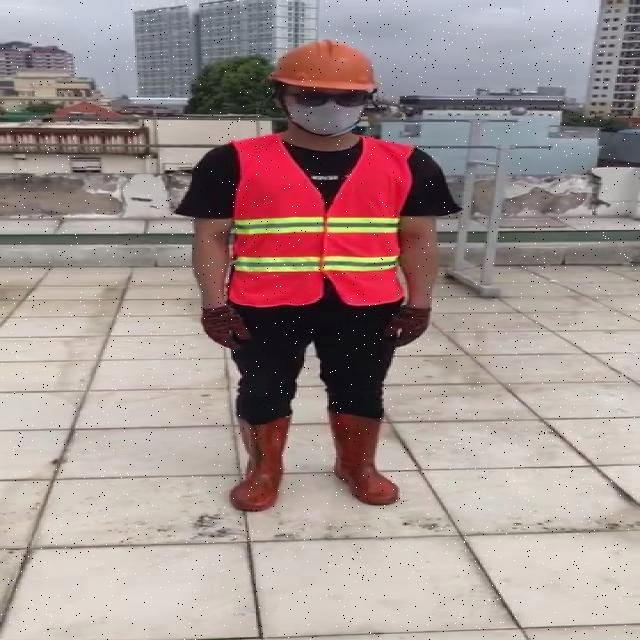Hard_hat: (266, 36, 389, 104)
Vest: (222, 132, 406, 314)
